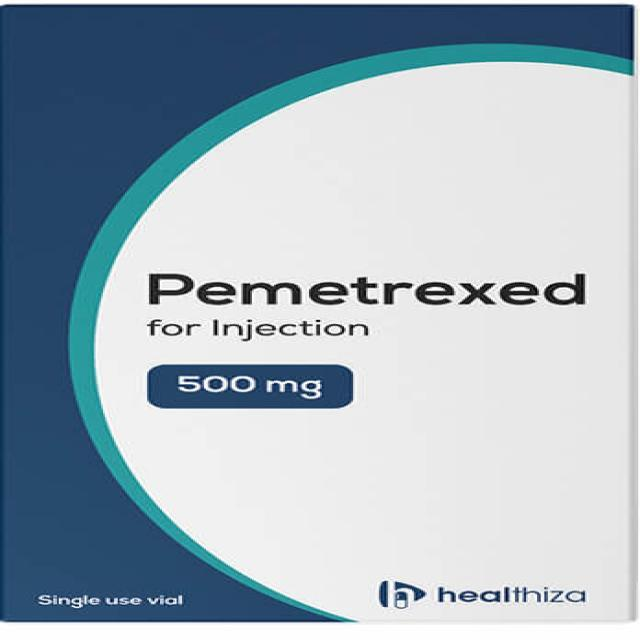drug-name: (147, 270, 592, 312)
